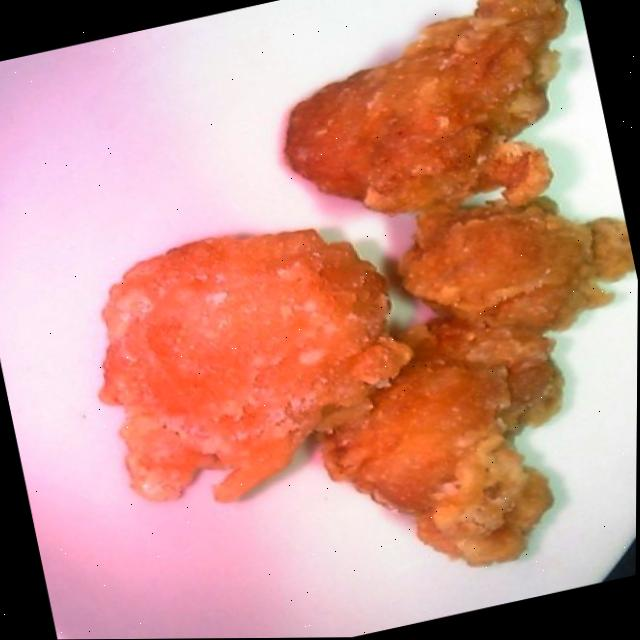鸡肉料理 含炸鸡: (27, 0, 640, 618)
